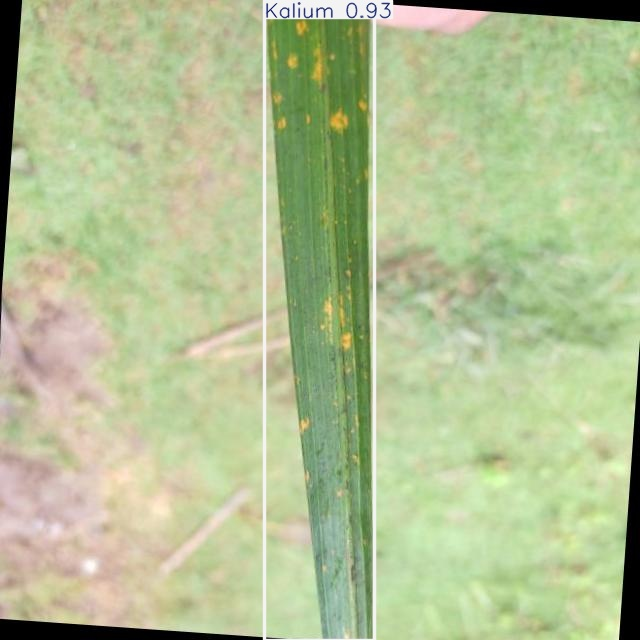Kalium: (265, 0, 375, 640)
